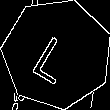L_NE: (31, 24, 83, 83)
